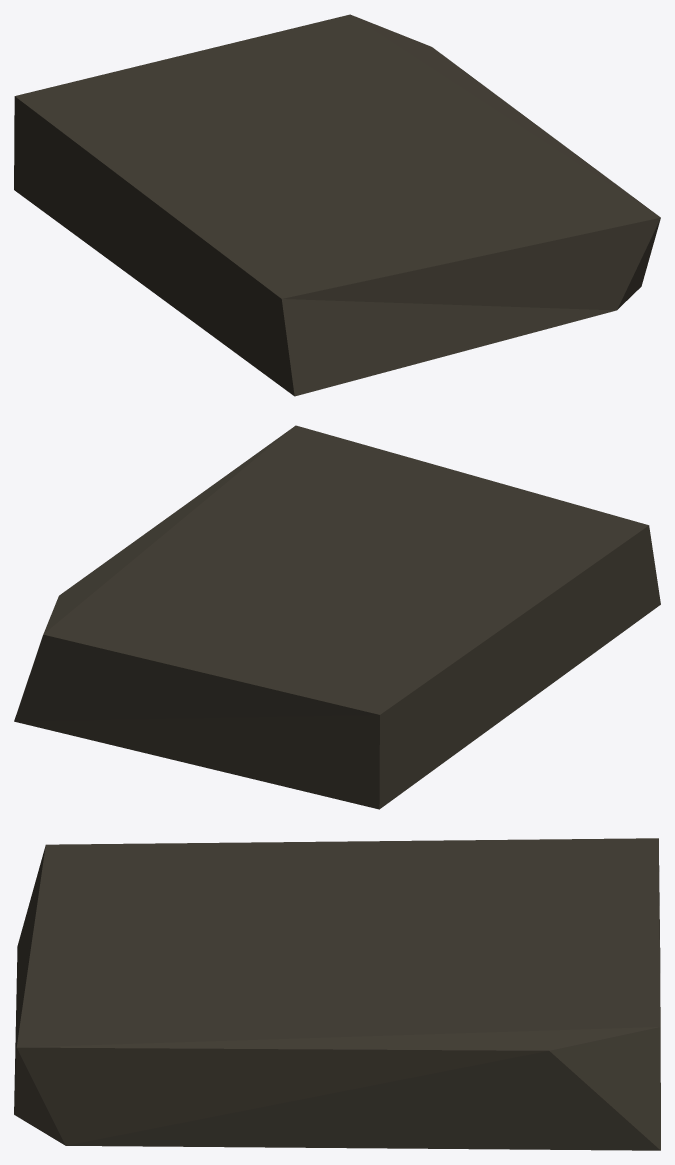
File: Stairs_Single_3_LOD_1.fbx
3 views of the same model, one above another, from view 1: azimuth 30°, elevation 25°; view 2: azimuth 150°, elevation 25°; view 3: azimuth 270°, elevation 25° (orthographic). The views are drawn at different scales.
Visible parts, largest first — view 1: Group41442; view 2: Group41442; view 3: Group41442.
Boxes of the visible parts, box(x1,y1,x2,y2) form: Group41442: box(14, 14, 660, 396); Group41442: box(14, 425, 660, 809); Group41442: box(14, 838, 660, 1150).
Bounding box in the file's own units: 1.7 × 0.4182 × 2.26.
